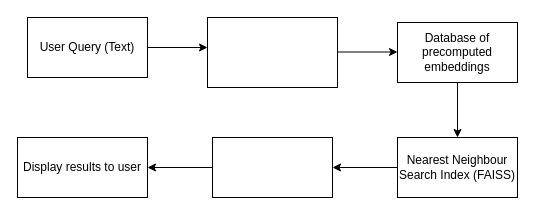
This 535x215 diagram has some shape labels left out. The box of each missing label's shape, as (x1, y1, x2, y2) in pixels:
A text embedding model (CLIP, SBERT): (206, 16, 338, 88)
Retrieve top k posts, match image URLs: (212, 136, 332, 198)
